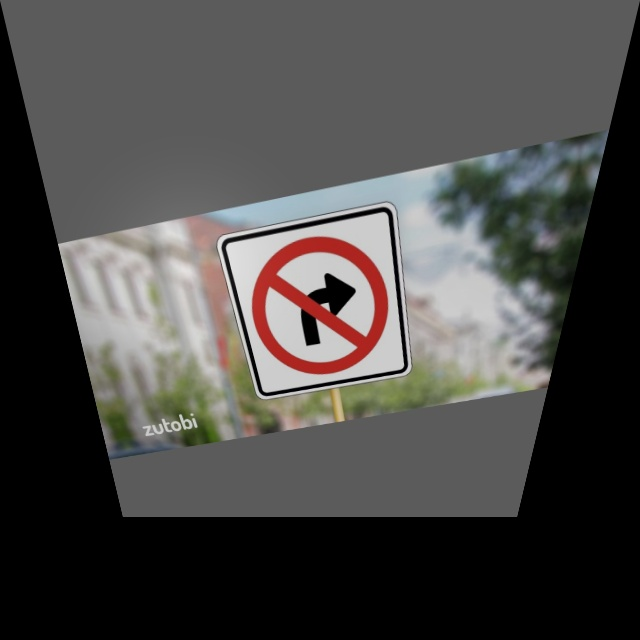Right_Turn_Prohibited: (230, 214, 414, 388)
